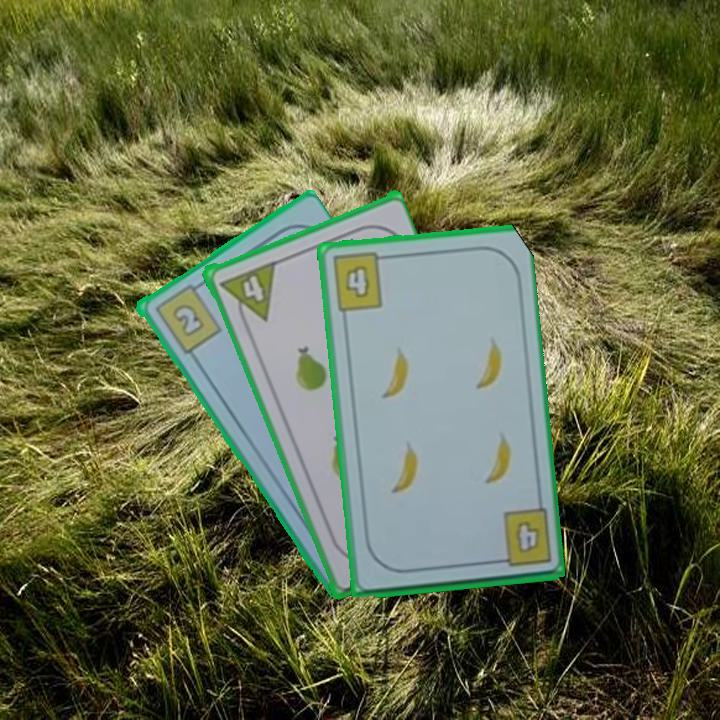2b: (150, 278, 224, 357)
4b: (489, 506, 554, 570), (329, 249, 391, 314)
4p: (234, 261, 278, 321)
